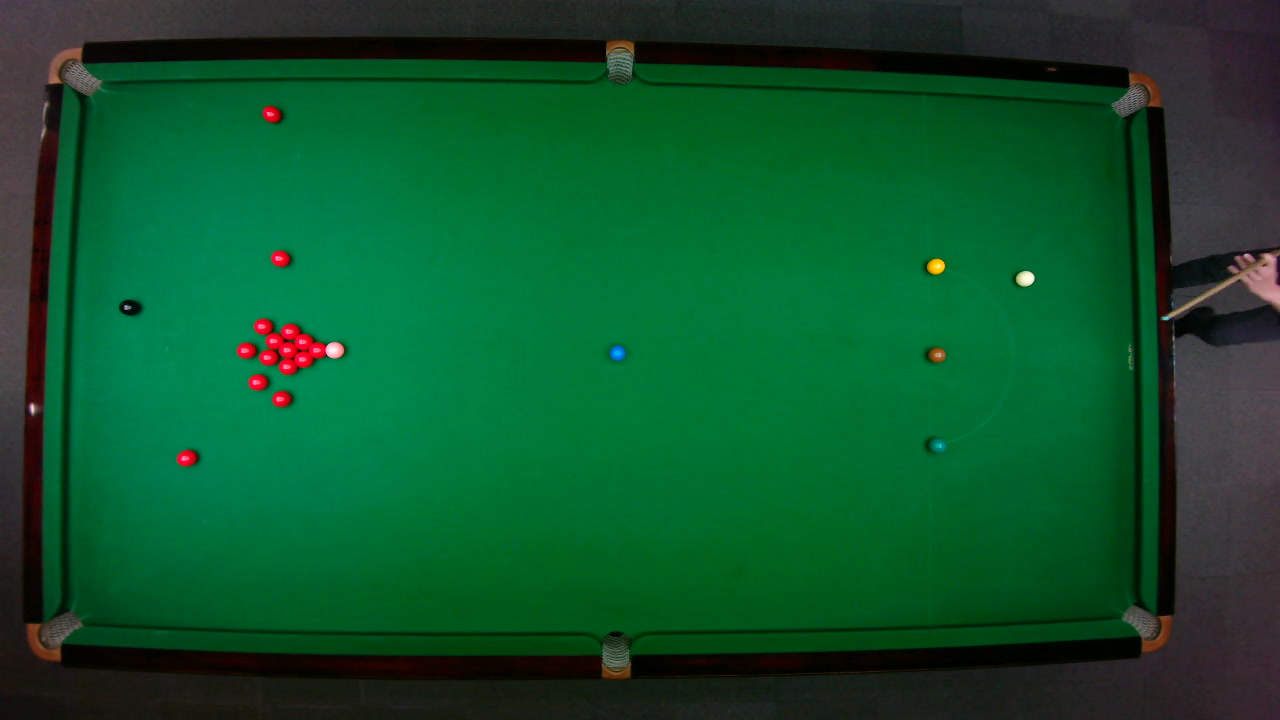bag: (24, 609, 83, 661), (45, 46, 102, 96), (1119, 603, 1171, 652), (1108, 71, 1161, 118), (600, 629, 630, 680), (605, 38, 633, 85)
black: (118, 298, 140, 315)
blue: (607, 343, 625, 361)
brown: (926, 346, 946, 362)
cue: (1160, 245, 1280, 330)
green: (927, 435, 946, 453)
pink: (323, 340, 345, 359)
red: (270, 389, 292, 408), (175, 448, 197, 467), (261, 104, 282, 123), (268, 249, 290, 267), (292, 350, 314, 368), (246, 373, 268, 391), (257, 347, 278, 365), (279, 321, 300, 339), (234, 341, 256, 358), (252, 317, 273, 334), (307, 340, 325, 359), (277, 358, 297, 375), (293, 332, 313, 349), (264, 331, 284, 347)
white: (1013, 269, 1035, 286)
yellow: (925, 257, 946, 274)
zone: (927, 266, 1013, 444)
